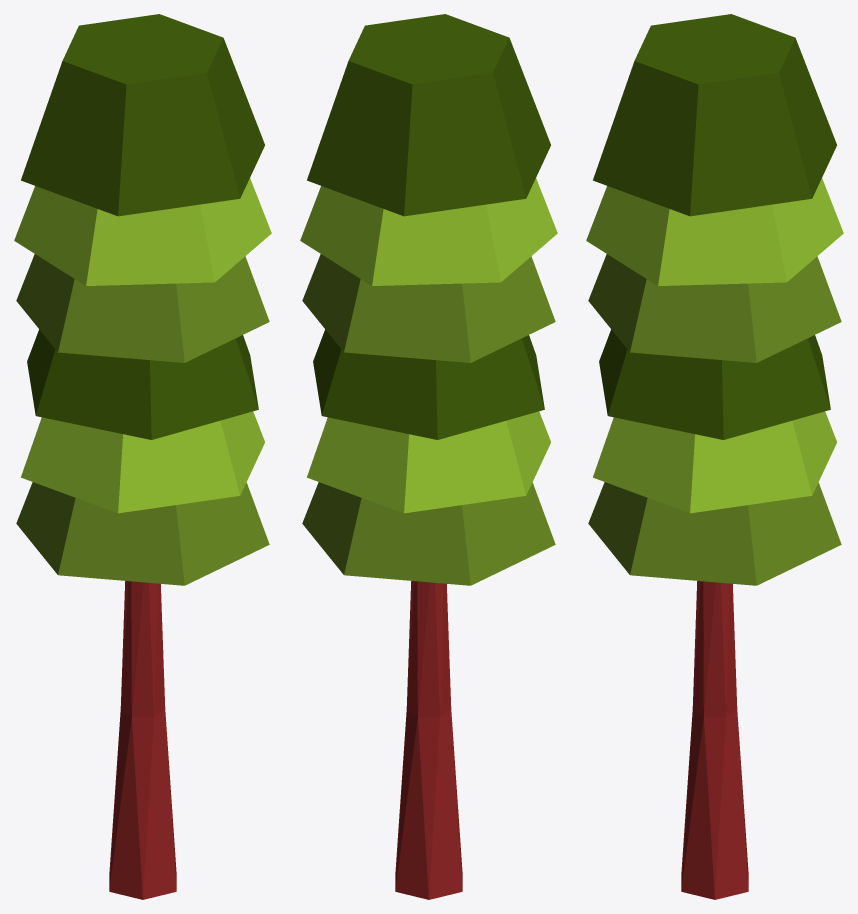
Rendered from kebab_tree_large.fbx.
3 views of the same model, side by side, from view 1: azimuth 30°, elevation 25°; view 2: azimuth 150°, elevation 25°; view 3: azimuth 270°, elevation 25° (orthographic).
Parts seen in each view (by area): view 1: G-Object.001, G-Object.005, G-Object.006, G-Object.004, G-Object.002, G-Object.003, G-Object.007; view 2: G-Object.001, G-Object.005, G-Object.006, G-Object.004, G-Object.002, G-Object.003, G-Object.007; view 3: G-Object.001, G-Object.005, G-Object.006, G-Object.004, G-Object.002, G-Object.003, G-Object.007.
Boxes of the visible parts, x1,y1,x2,y2 form: G-Object.001: (21,14,264,216); G-Object.005: (14,178,271,285); G-Object.006: (16,254,269,362); G-Object.004: (16,482,269,585); G-Object.002: (21,411,264,513); G-Object.003: (27,329,258,439); G-Object.007: (109,581,176,899); G-Object.001: (307,14,550,216); G-Object.005: (300,178,557,285); G-Object.006: (302,254,555,362); G-Object.004: (302,482,555,585); G-Object.002: (307,411,550,513); G-Object.003: (313,329,544,439); G-Object.007: (395,581,462,899); G-Object.001: (593,14,836,216); G-Object.005: (586,178,843,285); G-Object.006: (588,254,841,362); G-Object.004: (588,482,841,585); G-Object.002: (593,411,836,513); G-Object.003: (599,329,830,439); G-Object.007: (681,581,748,899).
Bounding box in the file's own units: 267 × 955 × 267.
